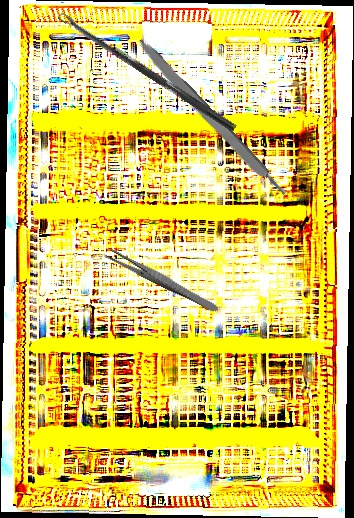Dressing Forceps: (102, 245, 221, 315)
Scalpel Handle: (133, 36, 288, 201)
Surgical Spoon: (57, 10, 238, 133)
